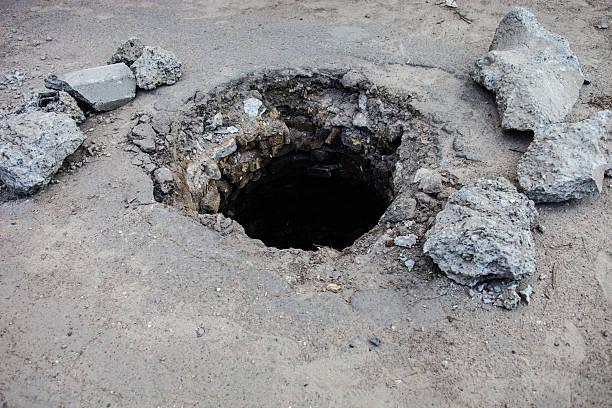Spalling: (147, 63, 458, 261)
